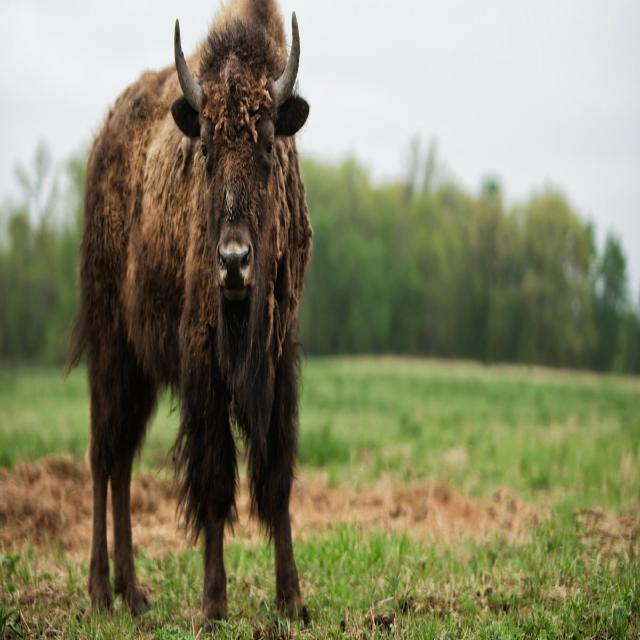Bison: (63, 1, 334, 636)
